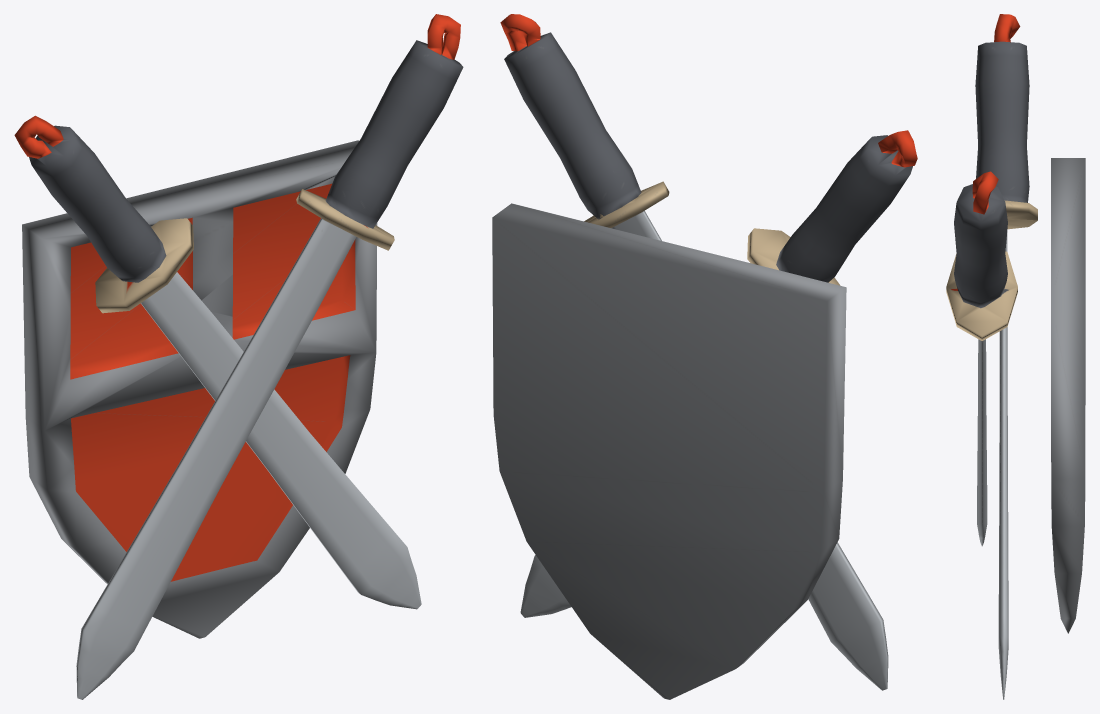
The model's file is shield-swords.fbx.
3 renders of one model, left to right at view 1: azimuth 30°, elevation 25°; view 2: azimuth 150°, elevation 25°; view 3: azimuth 270°, elevation 25°, orthographic. The views are drawn at different scales.
Parts seen in each view (by area): view 1: unamed; view 2: unamed; view 3: unamed.
Part boxes in pixels (bbox=[...]): unamed: bbox=[14, 14, 463, 699]; unamed: bbox=[492, 14, 917, 699]; unamed: bbox=[946, 14, 1085, 699].
Size of the model in its own units: 0.7351 by 0.9939 by 0.2306.
Materials: 1 (1 with a texture image).
